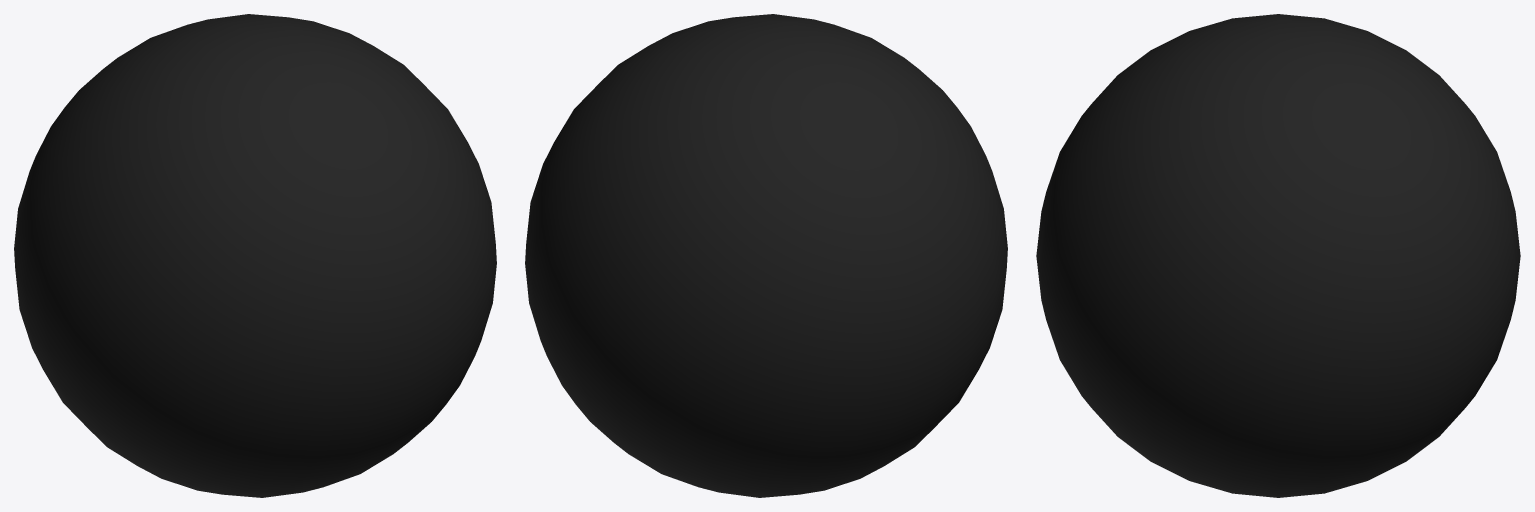
The model's file is black_circle.glb.
3 renders of one model, left to right at view 1: azimuth 30°, elevation 25°; view 2: azimuth 150°, elevation 25°; view 3: azimuth 270°, elevation 25°, orthographic.
Parts seen in each view (by area): view 1: black_circle; view 2: black_circle; view 3: black_circle.
Boxes of the visible parts, left/top/right/bottom form: black_circle: left=14, top=14, right=496, bottom=497; black_circle: left=525, top=14, right=1007, bottom=497; black_circle: left=1036, top=14, right=1520, bottom=497.
Bounding box in the file's own units: 2.23 × 2.23 × 2.23.
1 material, 1 textured.
